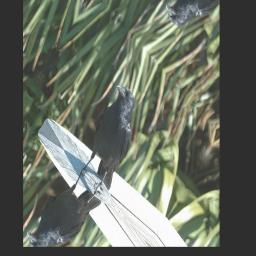Crow: (72, 79, 154, 196)
